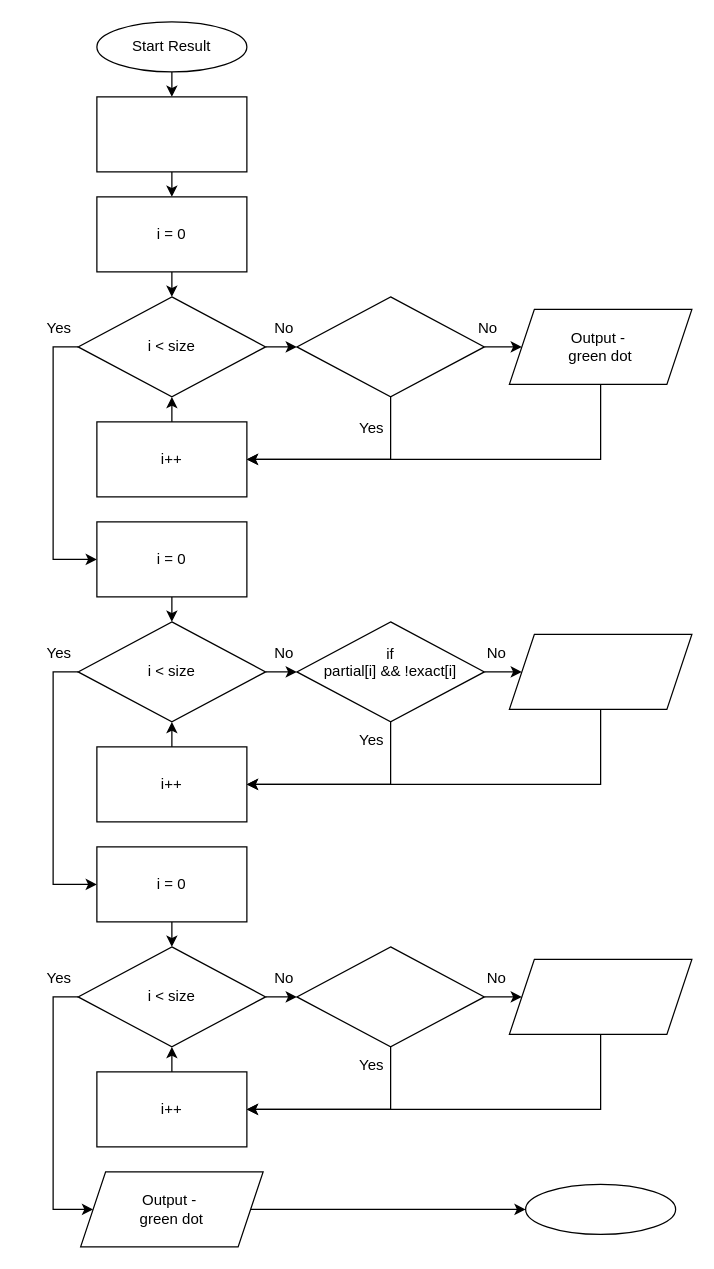
The diagram is 714 pixels wide and 1269 high, and some of its shapes have lost their labels. Here are the shapes that lost their labels. From the top down, the box of each, then its label:
(96, 96, 247, 172): declare strings for colors & dot
(296, 296, 484, 397): if exact[i]
(508, 633, 692, 709): Output - yellow dot
(296, 946, 484, 1047): if !partial[i] && !exact[i]
(508, 958, 692, 1034): Output - red dot
(524, 1183, 676, 1234): End Result
